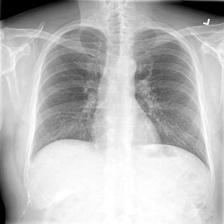normal: (29, 14, 215, 184)
